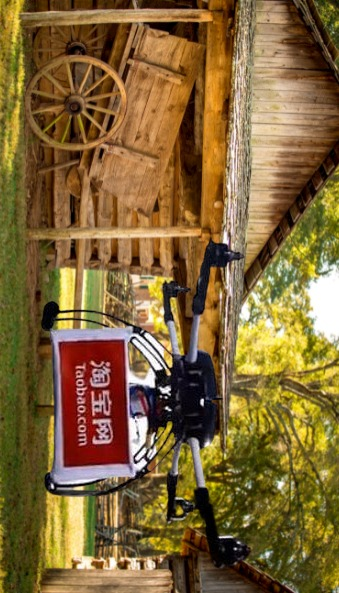drone: (42, 237, 251, 569)
